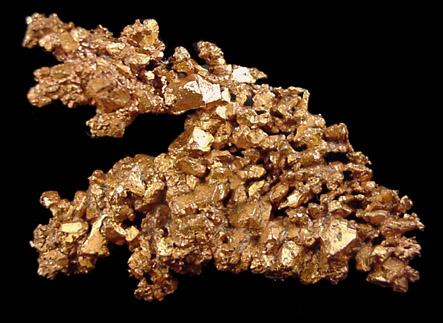copper: (23, 13, 425, 302)
